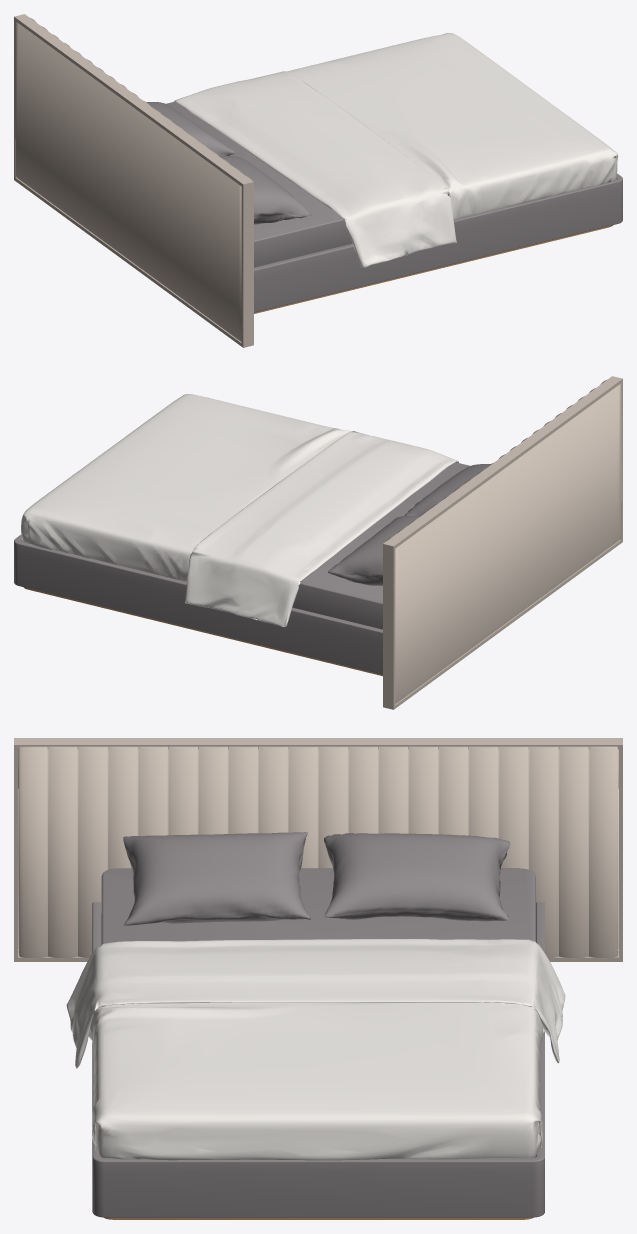
Rendered from bed_panel.glb.
3 renders of one model, top to bottom at view 1: azimuth 30°, elevation 25°; view 2: azimuth 150°, elevation 25°; view 3: azimuth 270°, elevation 25°, orthographic. The views are drawn at different scales.
Parts seen in each view (by area): view 1: Cube; view 2: Cube; view 3: Cube.
Part boxes in pixels (x1,y1,x2,y2): Cube: (14, 14, 622, 347); Cube: (14, 376, 622, 709); Cube: (14, 738, 622, 1219).
Size of the model in its own units: 2.21 by 0.8401 by 2.12.
